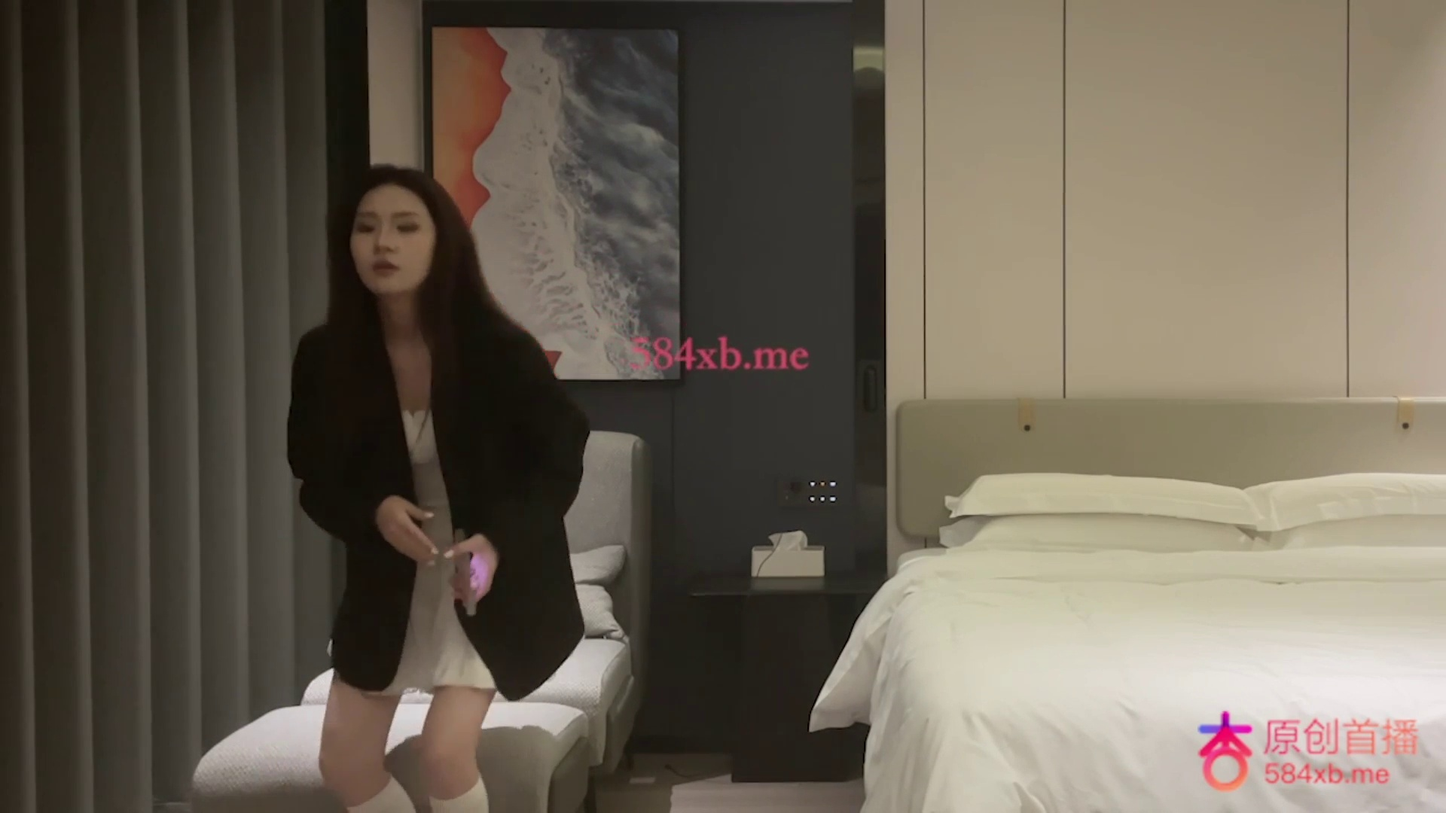squat: (285, 163, 590, 808)
